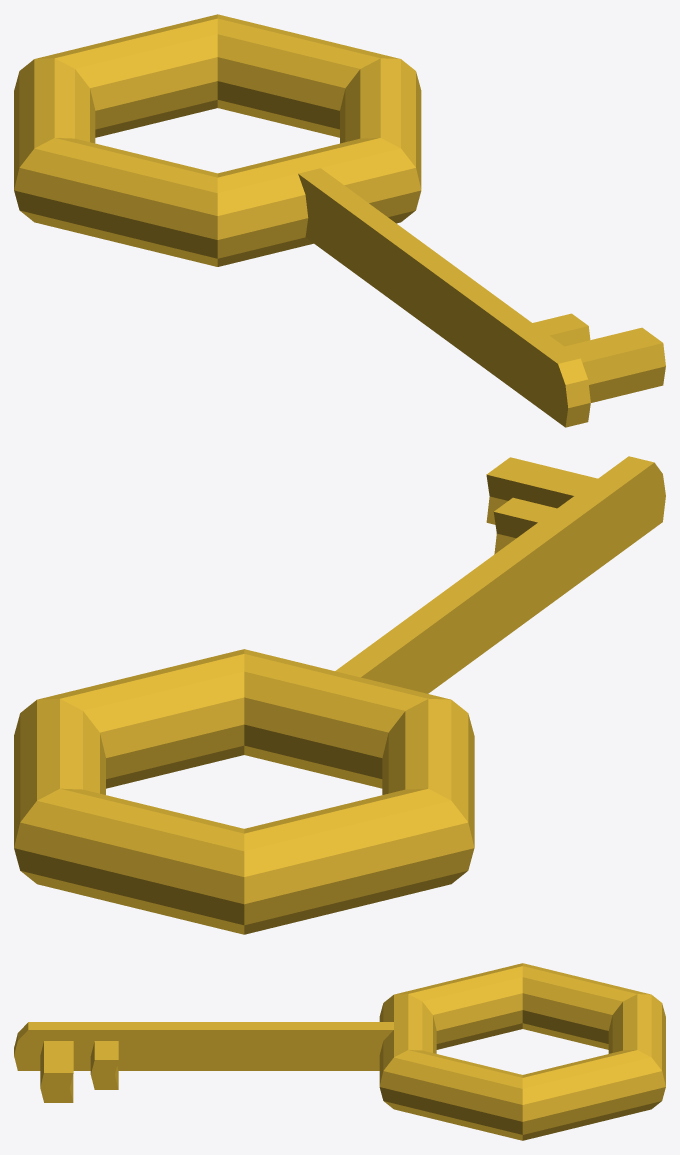
File: key.fbx
The picture shows the model from 3 angles, top to bottom: view 1: azimuth 30°, elevation 25°; view 2: azimuth 150°, elevation 25°; view 3: azimuth 270°, elevation 25°; orthographic projection. The views are drawn at different scales.
Visible parts, largest first — view 1: Torus; view 2: Torus; view 3: Torus.
Boxes of the visible parts, bbox=[...] form: Torus: bbox=[14, 14, 665, 427]; Torus: bbox=[14, 456, 665, 934]; Torus: bbox=[14, 963, 665, 1140].
Bounding box in the file's own units: 250 × 50 × 493.
